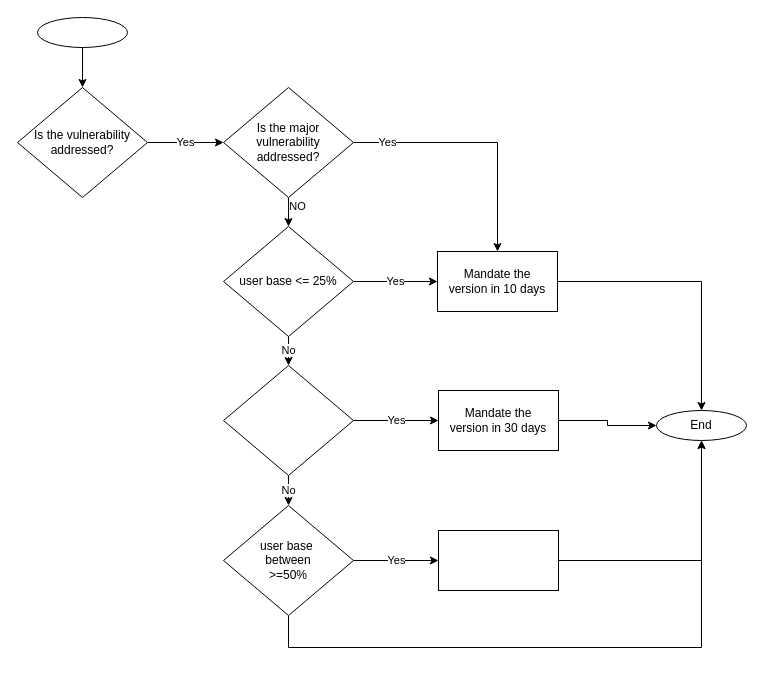
The diagram is 764 pixels wide and 673 high, and some of its shapes have lost their labels. The shapes that lost their labels are listed below. From the top down, each one's centre as x and y in pixels, then its label:
At point 82,32: "Start".
At point 288,420: "user base between >25% and <50%".
At point 498,560: "Mandate the version in 60 days".
